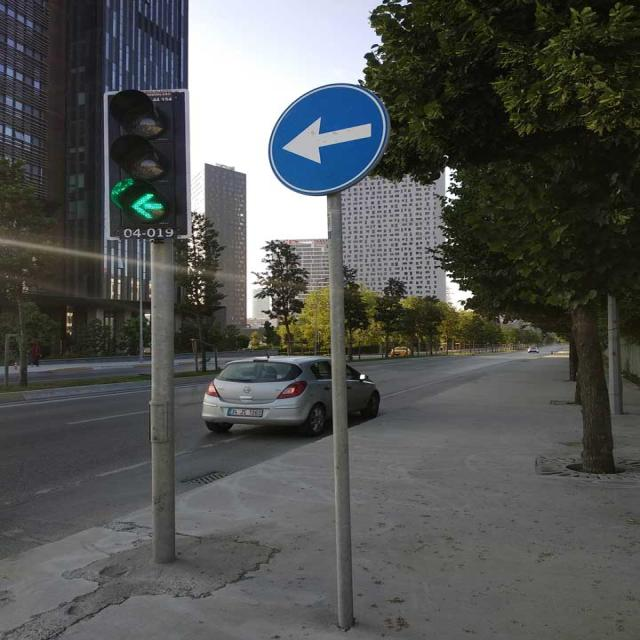sol: (268, 82, 387, 196)
yesil: (102, 88, 195, 240)
